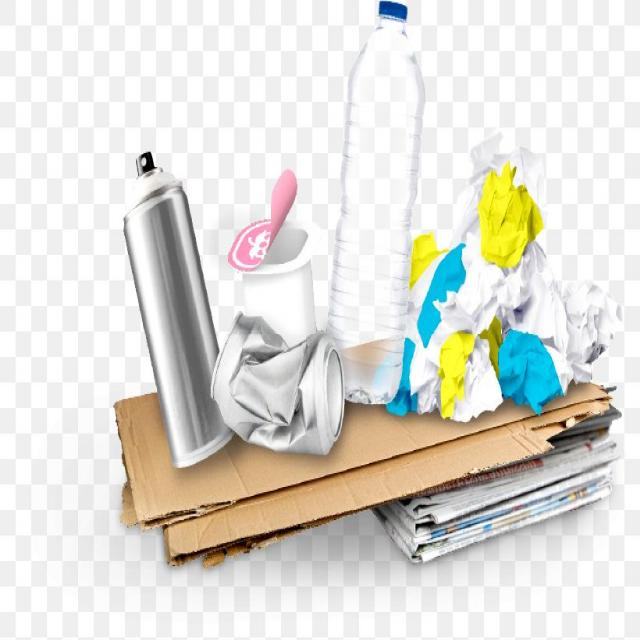metal: (115, 159, 222, 449), (236, 323, 342, 458)
paper: (129, 457, 623, 554), (430, 164, 584, 404)
plastic: (344, 0, 405, 403), (245, 196, 327, 325)
